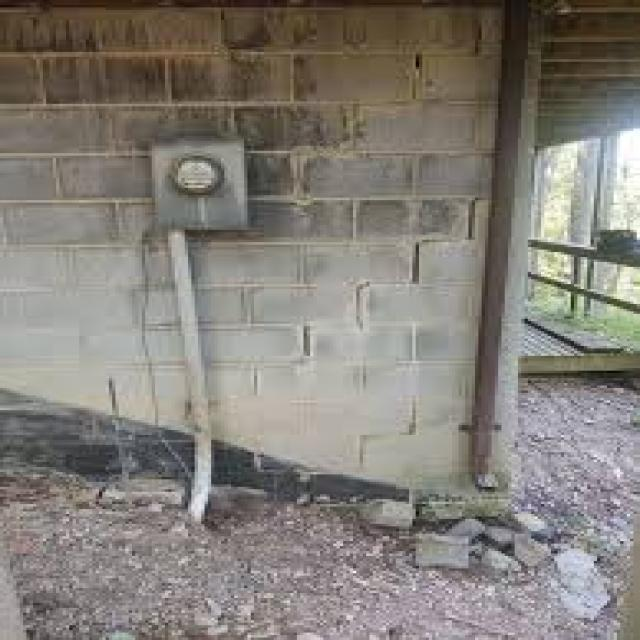Crack: (241, 193, 488, 398), (406, 18, 485, 96)
